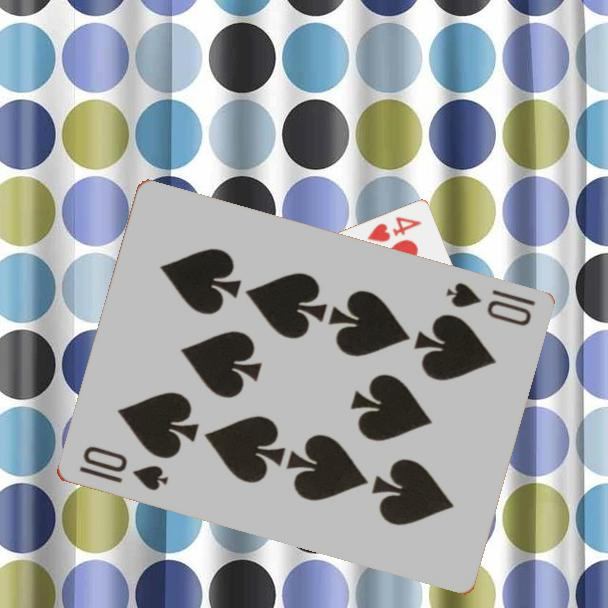h04: (363, 214, 424, 246)
s10: (75, 442, 171, 494), (442, 279, 538, 330)
